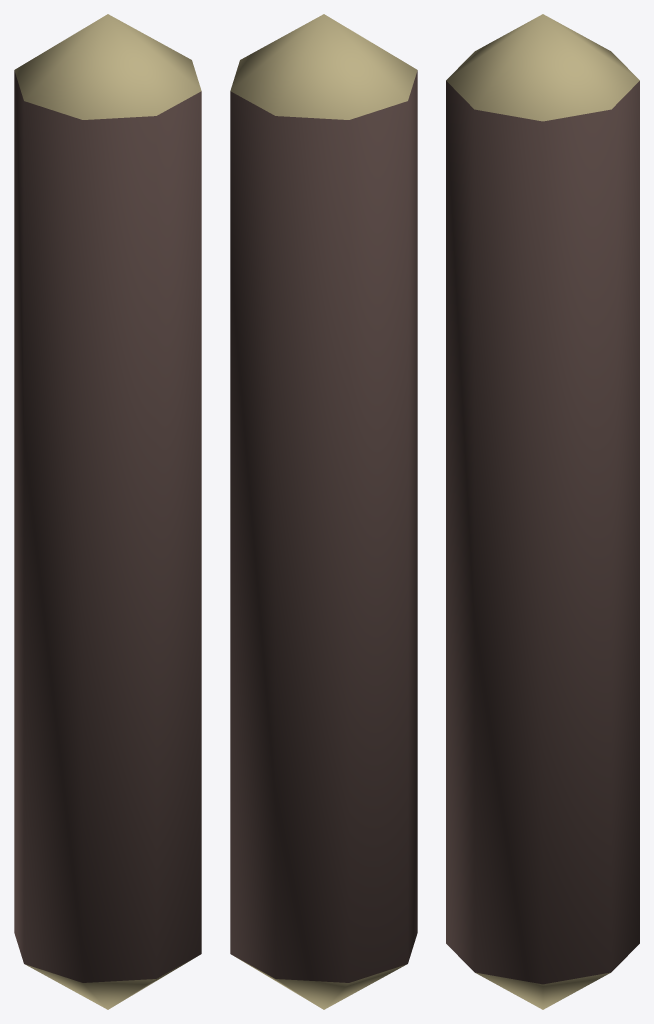
File: BuildingLog1.7m1.fbx
3 views of the same model, side by side, from view 1: azimuth 30°, elevation 25°; view 2: azimuth 150°, elevation 25°; view 3: azimuth 270°, elevation 25° (orthographic).
Visible parts, largest first — view 1: building_log_1.7m_1; view 2: building_log_1.7m_1; view 3: building_log_1.7m_1.
Part boxes in pixels (x1,y1,x2,y2): building_log_1.7m_1: [14, 14, 201, 1009]; building_log_1.7m_1: [230, 14, 417, 1009]; building_log_1.7m_1: [446, 14, 639, 1009].
Size of the model in its own units: 30 by 170 by 30.
